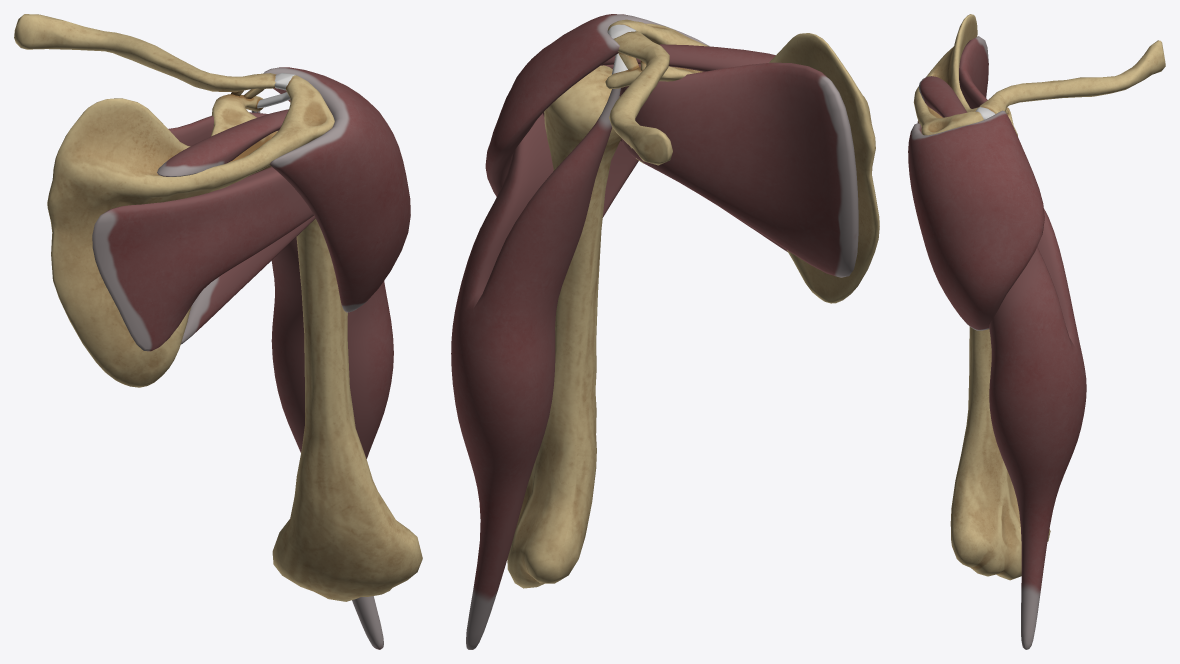
File: shoulder_joint.glb
3 renders of one model, left to right at view 1: azimuth 30°, elevation 25°; view 2: azimuth 150°, elevation 25°; view 3: azimuth 270°, elevation 25°, orthographic. The views are drawn at different scales.
Visible parts, largest first — view 1: pCube10, polySurface1; view 2: polySurface1, pCube10; view 3: polySurface1, pCube10.
Boxes of the visible parts, bbox=[...] form: pCube10: bbox=[14, 14, 422, 601]; polySurface1: bbox=[92, 67, 410, 649]; polySurface1: bbox=[451, 14, 858, 649]; pCube10: bbox=[507, 19, 879, 588]; polySurface1: bbox=[908, 36, 1086, 649]; pCube10: bbox=[913, 14, 1165, 580].
Size of the model in its own units: 0.3135 by 0.523 by 0.2373.
Materials: 2 (2 with a texture image).
